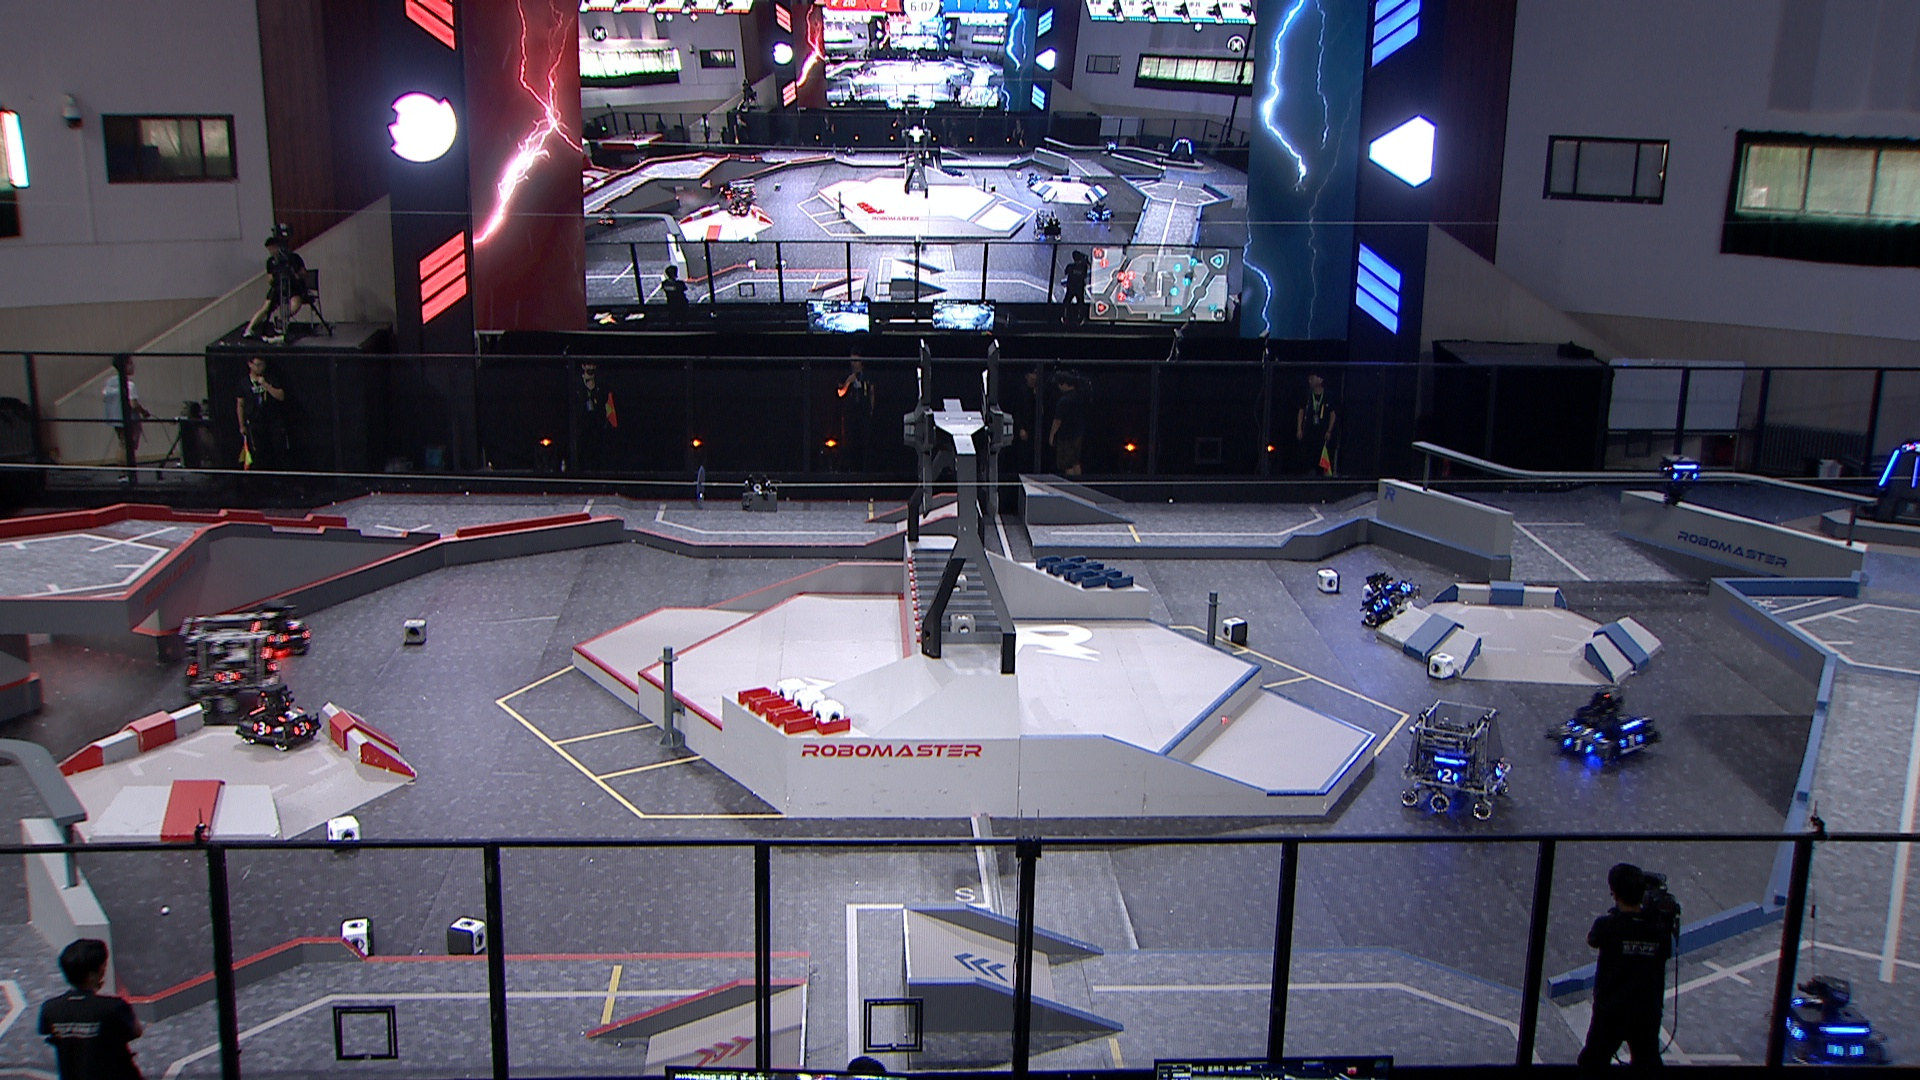armor: (1825, 1040, 1866, 1062), (1879, 448, 1902, 487), (1783, 1015, 1807, 1040), (212, 669, 244, 687), (1565, 737, 1594, 757), (1571, 723, 1604, 738), (277, 705, 306, 723), (1618, 733, 1644, 752), (1671, 469, 1698, 487), (1436, 767, 1462, 785), (1373, 595, 1390, 615), (251, 723, 276, 736), (266, 632, 289, 645), (1912, 455, 1920, 491), (294, 723, 311, 737), (287, 617, 305, 632), (1494, 760, 1506, 778), (1399, 582, 1414, 593)
base: (1855, 442, 1920, 527)
car: (1400, 702, 1515, 823), (1762, 972, 1887, 1068), (178, 612, 280, 711), (1545, 688, 1660, 764), (237, 684, 323, 752), (244, 599, 313, 655), (1362, 572, 1424, 626)
ignore: (1033, 208, 1063, 243), (1163, 138, 1196, 164), (1084, 202, 1114, 225), (731, 178, 760, 202), (728, 194, 752, 216), (596, 206, 618, 229), (1025, 171, 1043, 187), (717, 183, 733, 200), (1106, 138, 1117, 158), (1905, 442, 1920, 454)
watcher: (1659, 454, 1702, 510)
